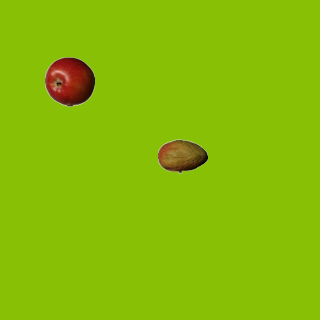Apple Braeburn: (44, 56, 94, 106)
Papaya: (157, 131, 207, 181)
